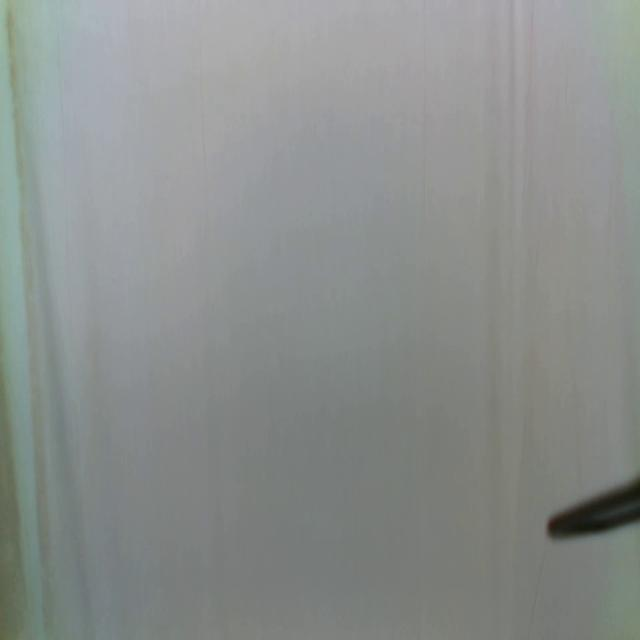color bleeding: (1, 0, 52, 636)
